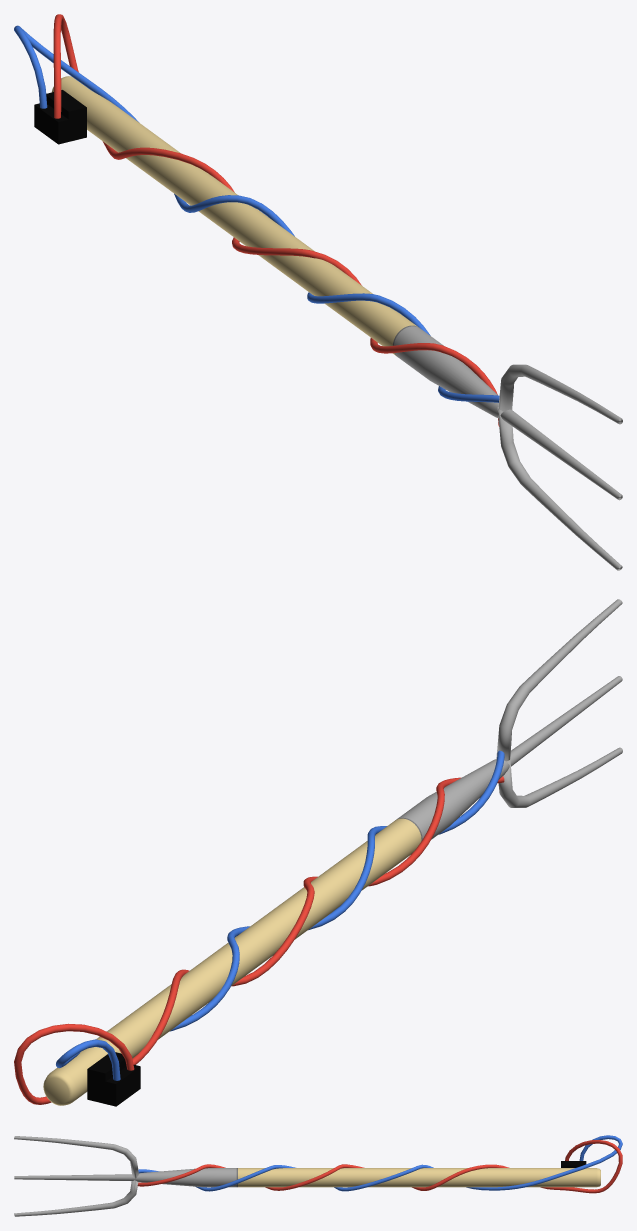
The model's file is Pitchfork.fbx.
3 views of the same model, one above another, from view 1: azimuth 30°, elevation 25°; view 2: azimuth 150°, elevation 25°; view 3: azimuth 270°, elevation 25° (orthographic). The views are drawn at different scales.
Visible parts, largest first — view 1: Tool, BézierCurve, BézierCurve.001, Battery; view 2: Tool, BézierCurve, BézierCurve.001, Battery; view 3: Tool, BézierCurve, BézierCurve.001, Battery.
Boxes of the visible parts, box(x1,y1,x2,y2) form: Tool: box(52, 76, 622, 570); BézierCurve: box(53, 14, 499, 426); BézierCurve.001: box(14, 25, 499, 402); Battery: box(34, 90, 86, 144); Tool: box(43, 599, 622, 1105); BézierCurve: box(14, 776, 504, 1104); BézierCurve.001: box(56, 750, 504, 1080); Battery: box(87, 1052, 140, 1106); Tool: box(14, 1136, 600, 1216); BézierCurve: box(137, 1140, 622, 1193); BézierCurve.001: box(138, 1135, 622, 1191); Battery: box(561, 1161, 586, 1167).
Size of the model in its own units: 65.19 by 137 by 941.
